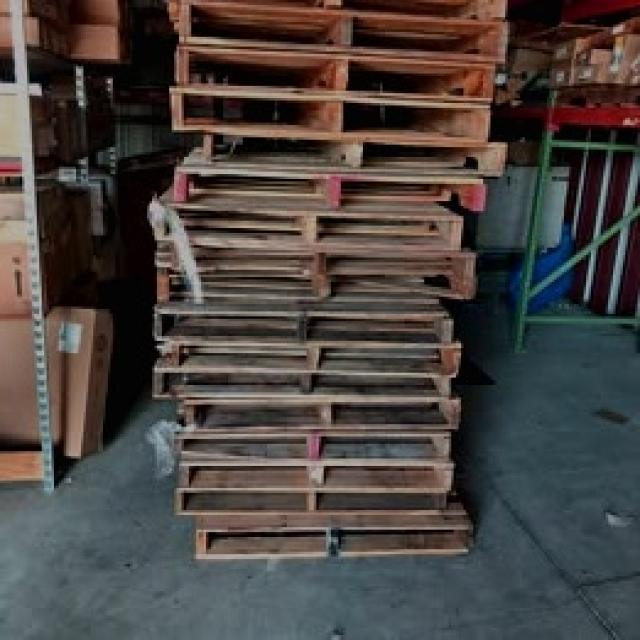non-igps: (141, 182, 471, 267), (168, 142, 495, 224), (164, 75, 497, 152), (188, 488, 484, 574), (169, 0, 513, 74), (169, 38, 500, 112), (148, 238, 486, 307), (199, 131, 516, 192), (151, 326, 468, 386), (147, 349, 456, 407), (151, 296, 460, 352), (171, 418, 455, 468), (170, 392, 470, 439), (174, 457, 462, 504), (170, 480, 453, 525), (226, 0, 517, 27)
